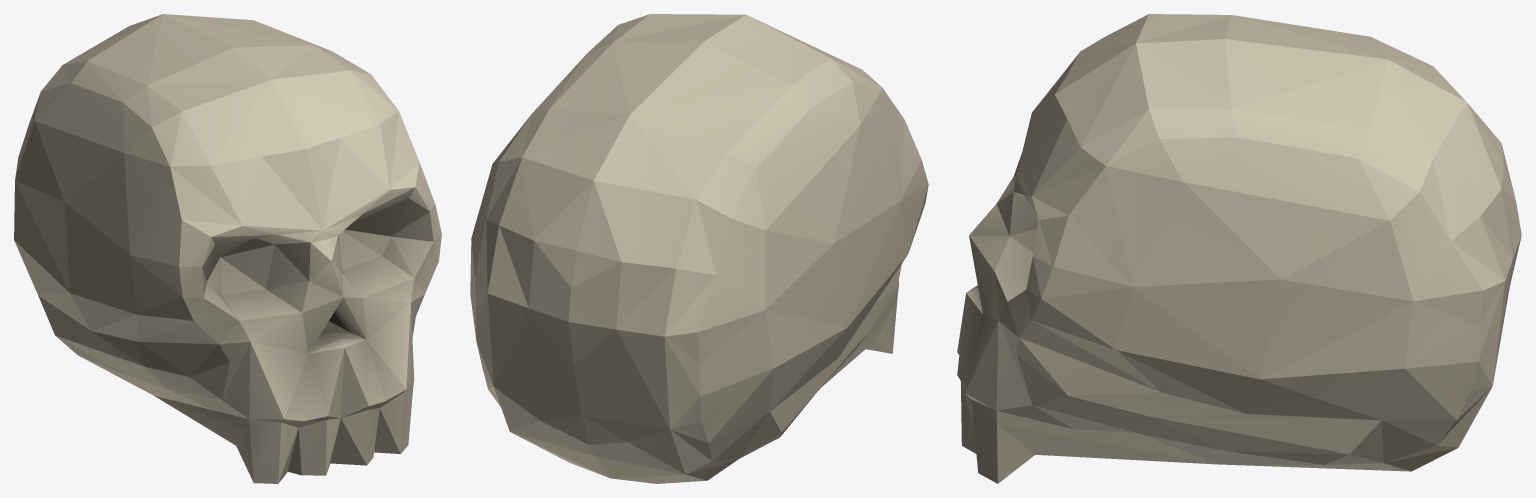
The model's file is obj_skull.FBX.
3 views of the same model, side by side, from view 1: azimuth 30°, elevation 25°; view 2: azimuth 150°, elevation 25°; view 3: azimuth 270°, elevation 25° (orthographic). The views are drawn at different scales.
Visible parts, largest first — view 1: obj_skull; view 2: obj_skull; view 3: obj_skull.
Part boxes in pixels (x1,y1,x2,y2): obj_skull: [14, 14, 441, 483]; obj_skull: [470, 14, 928, 483]; obj_skull: [957, 14, 1521, 483].
Size of the model in its own units: 0.6305 by 0.7015 by 0.895.
